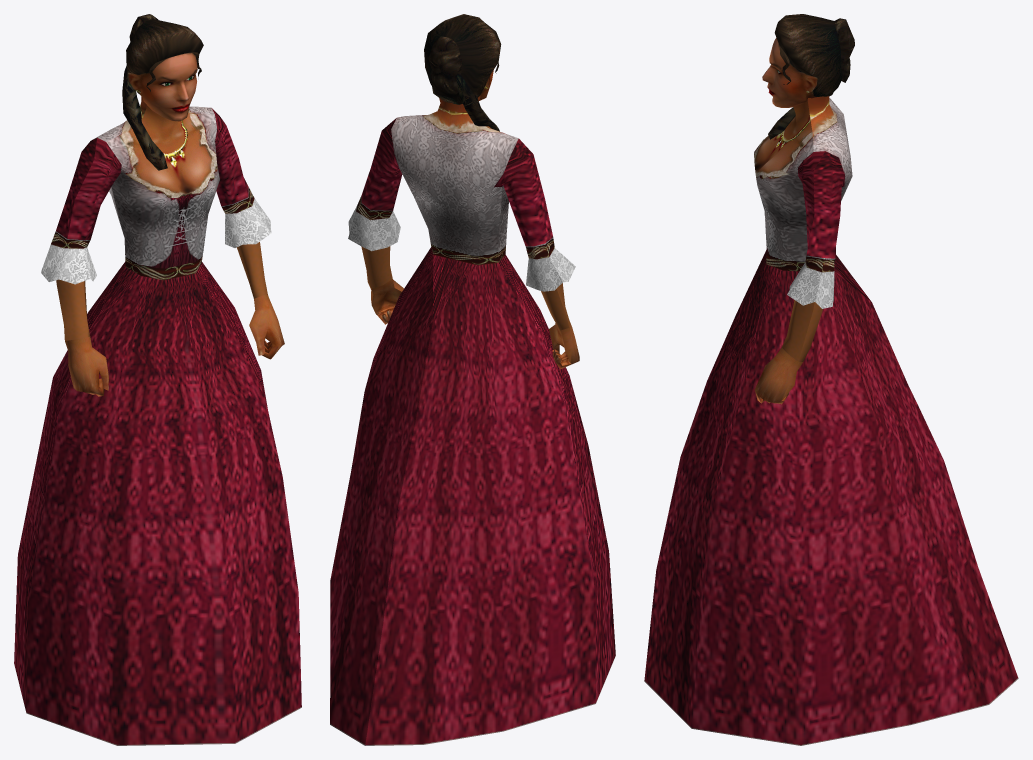
The model's file is red_clothes_lady.obj.
3 views of the same model, side by side, from view 1: azimuth 30°, elevation 25°; view 2: azimuth 150°, elevation 25°; view 3: azimuth 270°, elevation 25° (orthographic). The views are drawn at different scales.
Parts seen in each view (by area): view 1: objHand_right_hi1; view 2: objHand_right_hi1; view 3: objHand_right_hi1.
Part boxes in pixels (x1,y1,x2,y2): objHand_right_hi1: (14,14,301,745); objHand_right_hi1: (330,14,615,745); objHand_right_hi1: (644,14,1018,745).
Size of the model in its own units: 6.71 by 16.54 by 8.36.
